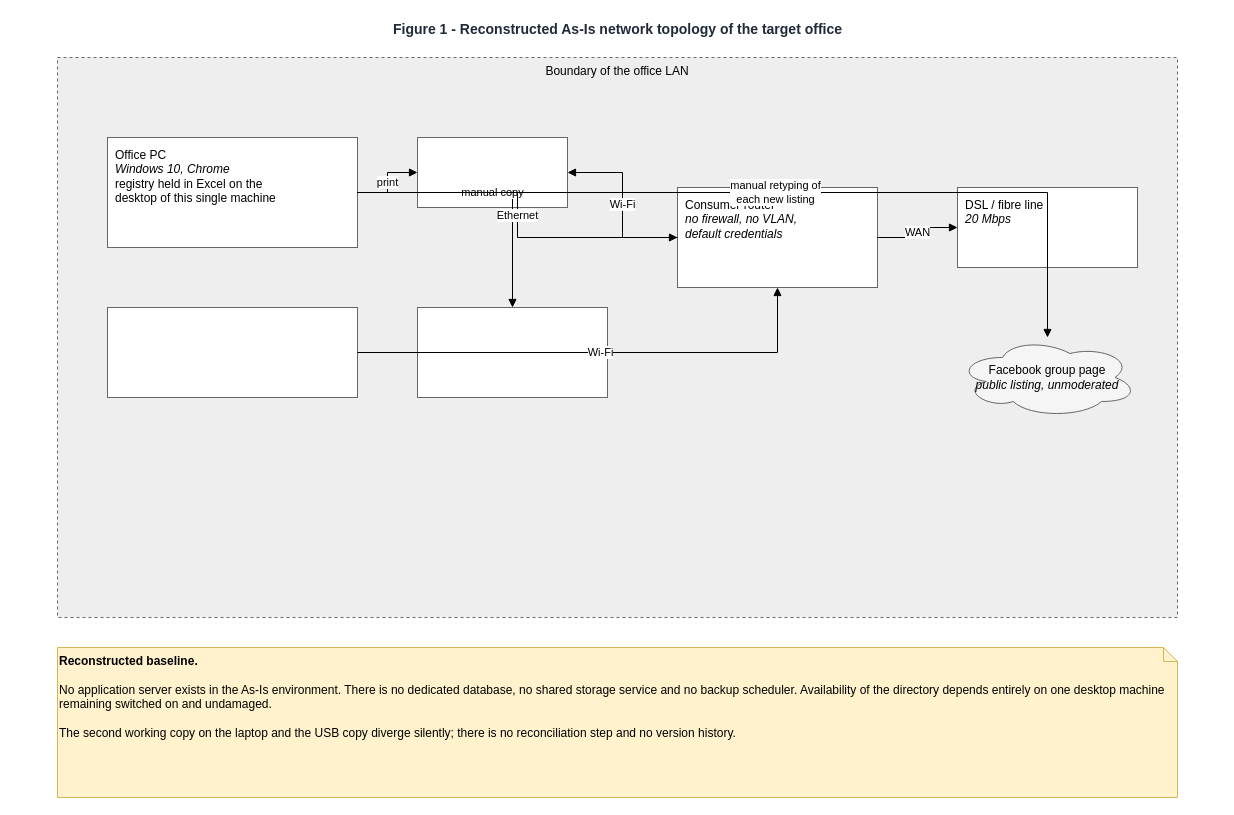
The diagram is 1234 pixels wide and 815 high, and some of its shapes have lost their labels. The box of each missing label's shape, as (x1, y1, x2, y2) in pixels:
External USB drive manual weekly copy, stored in a drawer: (416, 306, 608, 398)
Laptop second working copy, kept in sync manually: (106, 306, 358, 398)
Multi-function printer: (416, 136, 568, 208)
